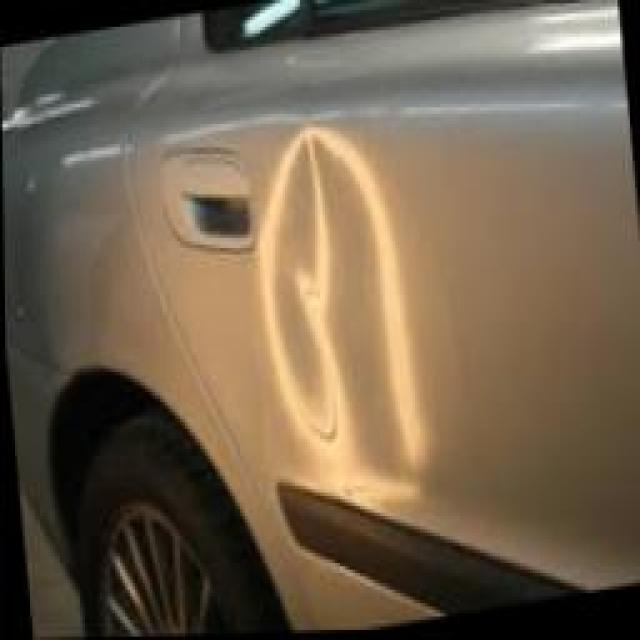Door: (253, 115, 441, 515)
